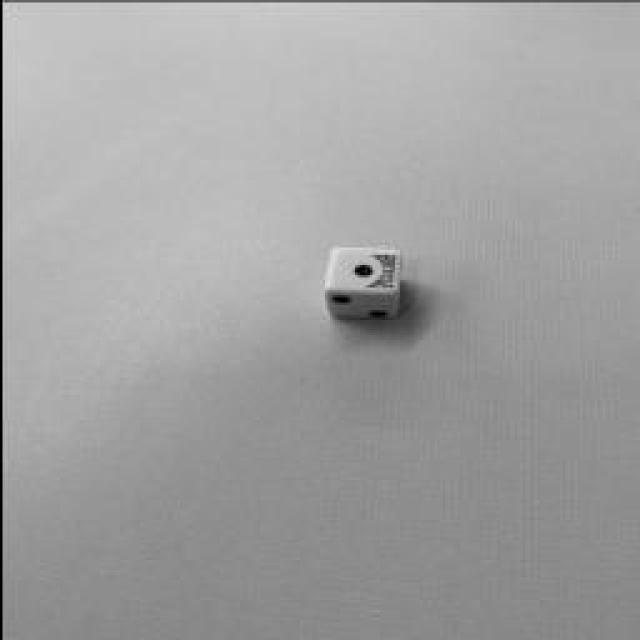dice_1: (322, 246, 398, 292)
